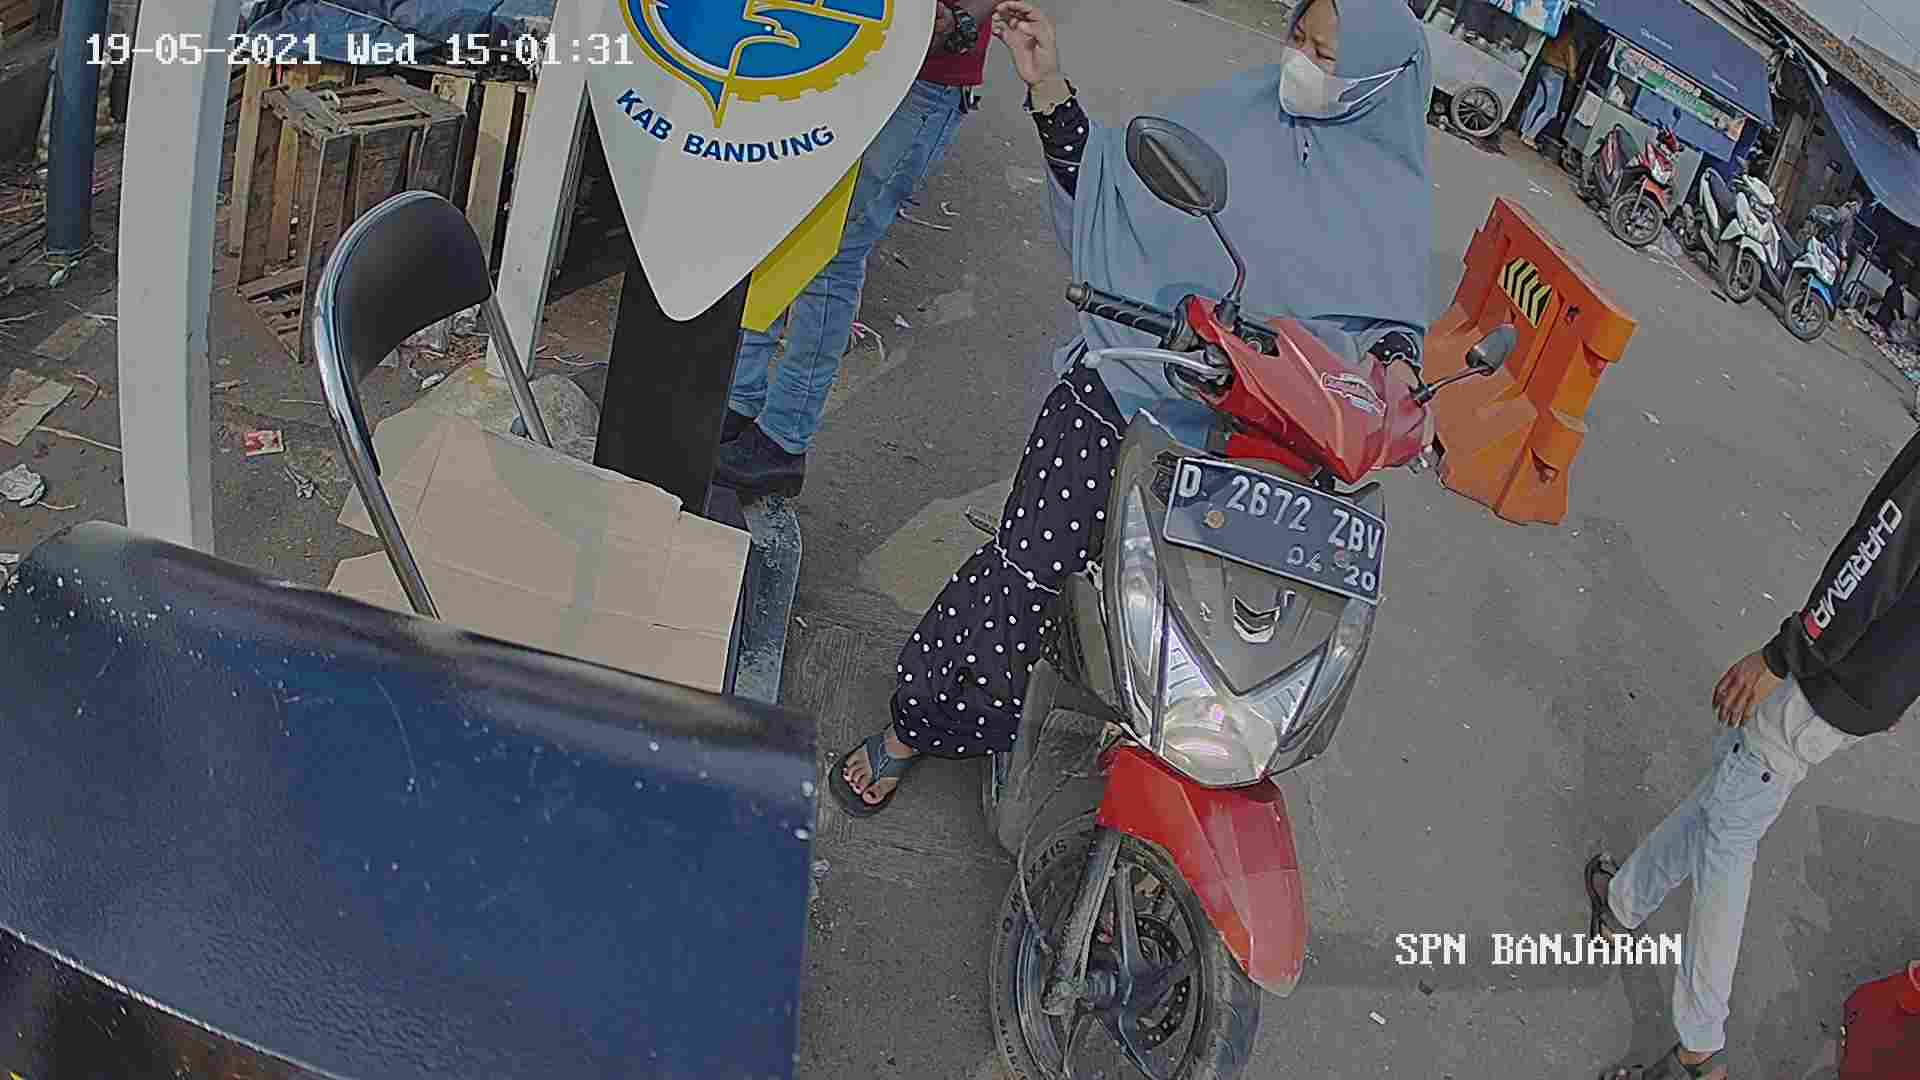motor: (963, 261, 1411, 1080)
